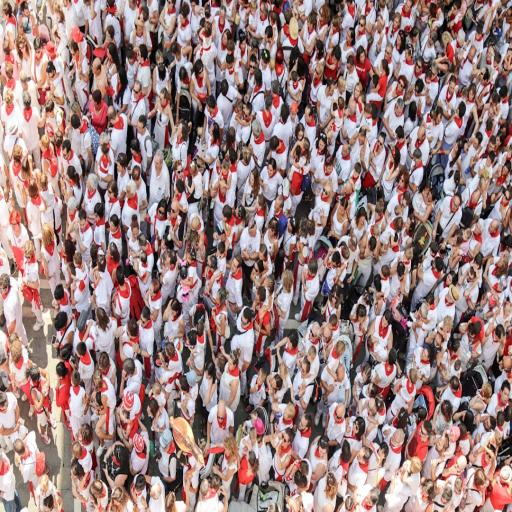face: (425, 74, 433, 121), (217, 155, 228, 179), (217, 156, 228, 180), (341, 182, 355, 196), (416, 62, 422, 92), (390, 431, 400, 446), (298, 416, 308, 431), (368, 398, 376, 415), (377, 15, 385, 32), (486, 46, 494, 63), (323, 330, 332, 345), (420, 425, 428, 441), (241, 315, 250, 329), (267, 164, 276, 178), (335, 406, 344, 420), (319, 443, 327, 458), (436, 438, 444, 453), (133, 84, 141, 99), (160, 353, 168, 368), (196, 161, 205, 174), (156, 55, 164, 69), (243, 105, 251, 119), (501, 389, 509, 403), (330, 291, 338, 305), (452, 197, 460, 211), (118, 161, 126, 175), (489, 223, 499, 234), (167, 208, 178, 218), (341, 184, 351, 195), (151, 488, 159, 501), (357, 449, 364, 463), (269, 376, 276, 390), (421, 348, 429, 360), (134, 176, 142, 188), (258, 249, 266, 261), (132, 226, 139, 239), (435, 333, 442, 346), (377, 13, 384, 26), (338, 82, 345, 95), (249, 224, 256, 237), (396, 104, 403, 117), (65, 176, 74, 186), (355, 84, 361, 99), (362, 295, 371, 305), (0, 402, 8, 413), (282, 435, 290, 446), (377, 137, 383, 151), (405, 0, 412, 12), (305, 110, 312, 122), (358, 216, 365, 228), (469, 47, 475, 61), (222, 32, 228, 46), (342, 144, 349, 156), (484, 416, 490, 430), (359, 52, 366, 64), (330, 292, 337, 304), (40, 482, 48, 492), (325, 165, 333, 175), (79, 219, 87, 229), (320, 14, 328, 24), (326, 85, 334, 95), (240, 39, 246, 52), (449, 81, 455, 94), (218, 411, 225, 422), (358, 20, 365, 31), (275, 202, 282, 213), (339, 0, 346, 11), (358, 133, 365, 144), (378, 448, 385, 459), (158, 207, 165, 218), (187, 253, 194, 264), (106, 32, 113, 43), (177, 123, 182, 138), (405, 218, 411, 230), (301, 363, 307, 375), (291, 109, 297, 121), (54, 32, 60, 44), (232, 260, 238, 272), (319, 139, 325, 151), (492, 102, 498, 114), (229, 358, 235, 370), (495, 336, 505, 343), (488, 141, 495, 151), (468, 332, 475, 342), (207, 106, 214, 116), (315, 66, 322, 76), (19, 41, 26, 51), (307, 20, 314, 30), (87, 181, 94, 191), (40, 141, 47, 151), (35, 48, 42, 58), (397, 80, 403, 91), (446, 274, 452, 285), (260, 6, 265, 19), (397, 34, 402, 47), (506, 10, 511, 23), (48, 71, 56, 79), (269, 228, 277, 236), (484, 453, 491, 462), (191, 0, 198, 9), (141, 317, 148, 326), (138, 122, 145, 131), (33, 378, 40, 387), (426, 300, 433, 309), (497, 256, 503, 266), (346, 32, 351, 44), (257, 375, 263, 385), (261, 59, 267, 69), (322, 187, 328, 197), (298, 130, 304, 140), (110, 222, 116, 232), (138, 52, 144, 62), (405, 49, 411, 59), (159, 92, 165, 102), (94, 65, 100, 75), (382, 317, 388, 327), (428, 33, 433, 45), (401, 198, 407, 208), (22, 8, 29, 16), (256, 270, 264, 277), (69, 208, 76, 216), (250, 173, 254, 187), (358, 314, 366, 321), (457, 107, 462, 118), (147, 406, 152, 417), (220, 11, 225, 22), (432, 68, 437, 79), (394, 18, 399, 29), (425, 186, 430, 197), (266, 278, 271, 289), (171, 309, 177, 318), (250, 64, 256, 73), (436, 114, 441, 124), (77, 432, 82, 442), (180, 14, 185, 24), (208, 256, 213, 266), (287, 339, 292, 349), (414, 158, 421, 165), (227, 62, 234, 69), (6, 100, 13, 107), (453, 5, 459, 13), (72, 471, 78, 479), (41, 183, 47, 191), (428, 190, 432, 202), (129, 0, 135, 8), (198, 67, 203, 76), (288, 222, 292, 233), (2, 13, 8, 20), (365, 112, 371, 119), (205, 373, 212, 379), (108, 190, 113, 198), (251, 7, 256, 14), (421, 315, 426, 322), (507, 148, 511, 156), (210, 125, 213, 135), (380, 64, 383, 74), (63, 0, 68, 6), (298, 0, 303, 5), (380, 272, 383, 279)
